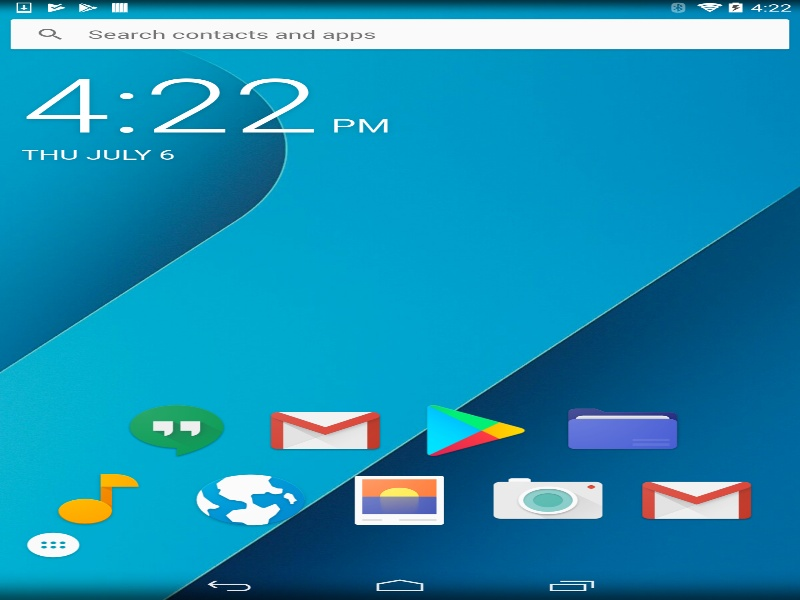Input: (10, 19, 789, 49)
